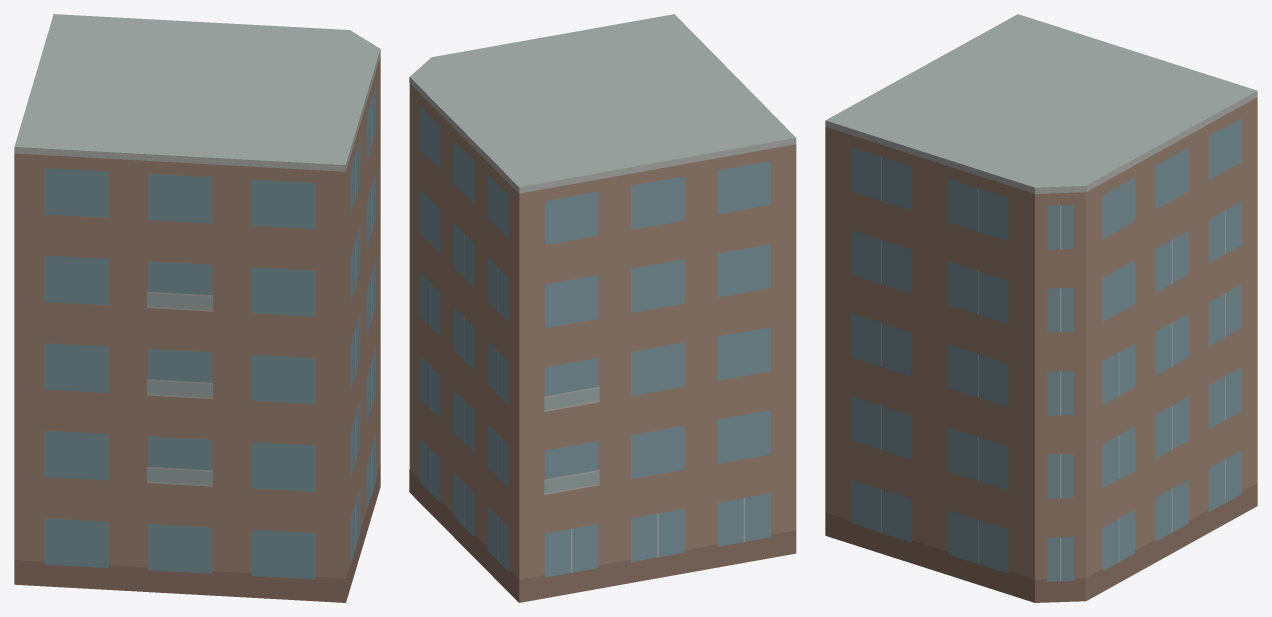
The model's file is survey-upis-32725963.glb.
The picture shows the model from 3 angles, left to right: view 1: azimuth 30°, elevation 25°; view 2: azimuth 150°, elevation 25°; view 3: azimuth 270°, elevation 25°; orthographic projection. The views are drawn at different scales.
Visible parts, largest first — view 1: survey-upis-32725963.tmp; view 2: survey-upis-32725963.tmp; view 3: survey-upis-32725963.tmp.
Boxes of the visible parts, box(x1,y1,x2,y2) form: survey-upis-32725963.tmp: box(14, 14, 380, 602); survey-upis-32725963.tmp: box(409, 14, 796, 602); survey-upis-32725963.tmp: box(825, 14, 1257, 602).
Size of the model in its own units: 14.45 by 16.1 by 15.2.
